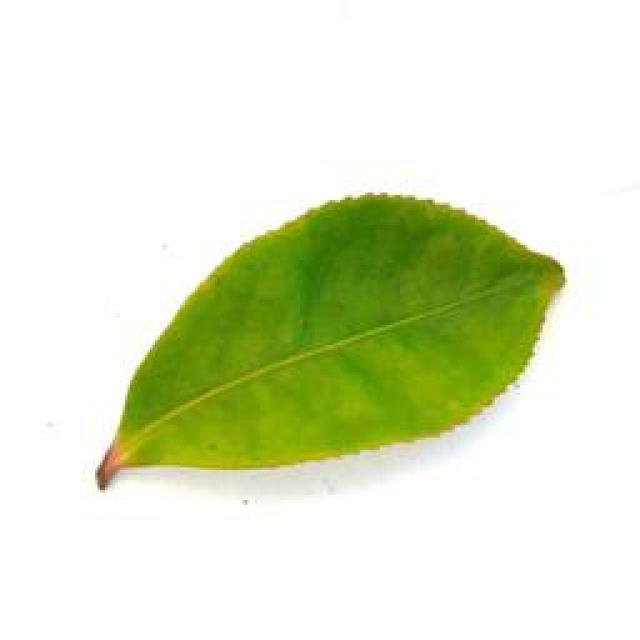Healthy: (95, 179, 570, 496)
